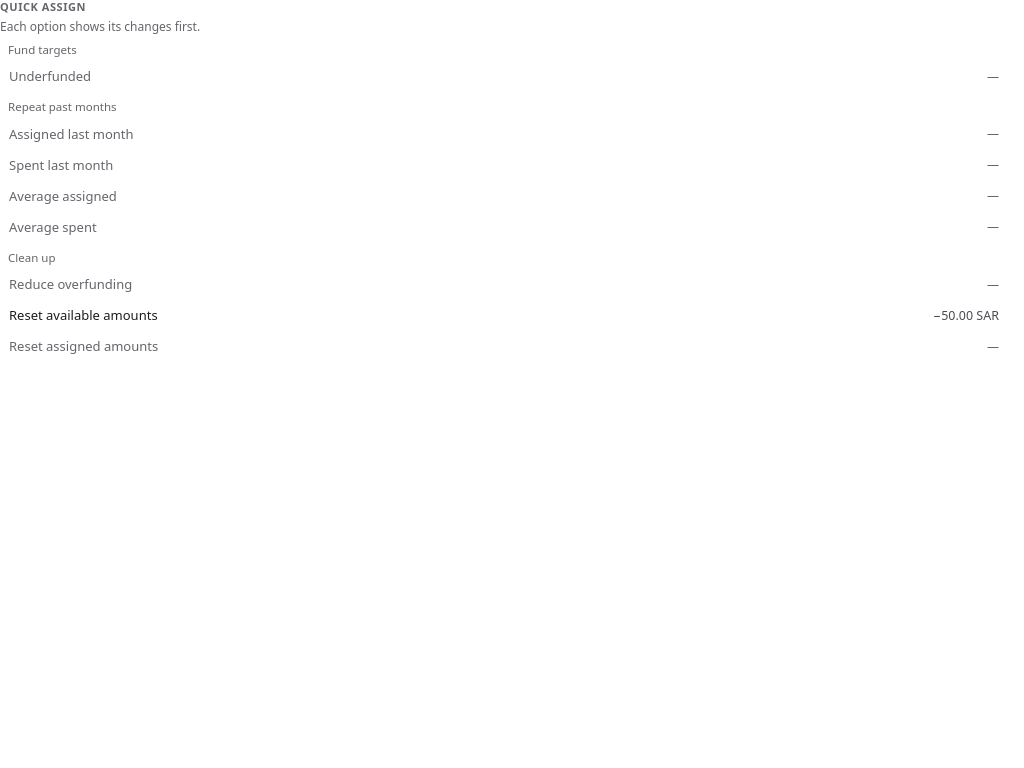
Scenario: uses the resulting native RTA and future shortage when returned funds are still reserved
The image size is (1024, 768).
Expected: the text "−50.00 SAR" is shown, [933,307,999,325]
Step 1. Click the button "Reset available amounts −50.00 SAR" → (83, 315), box [0,301,1023,331]
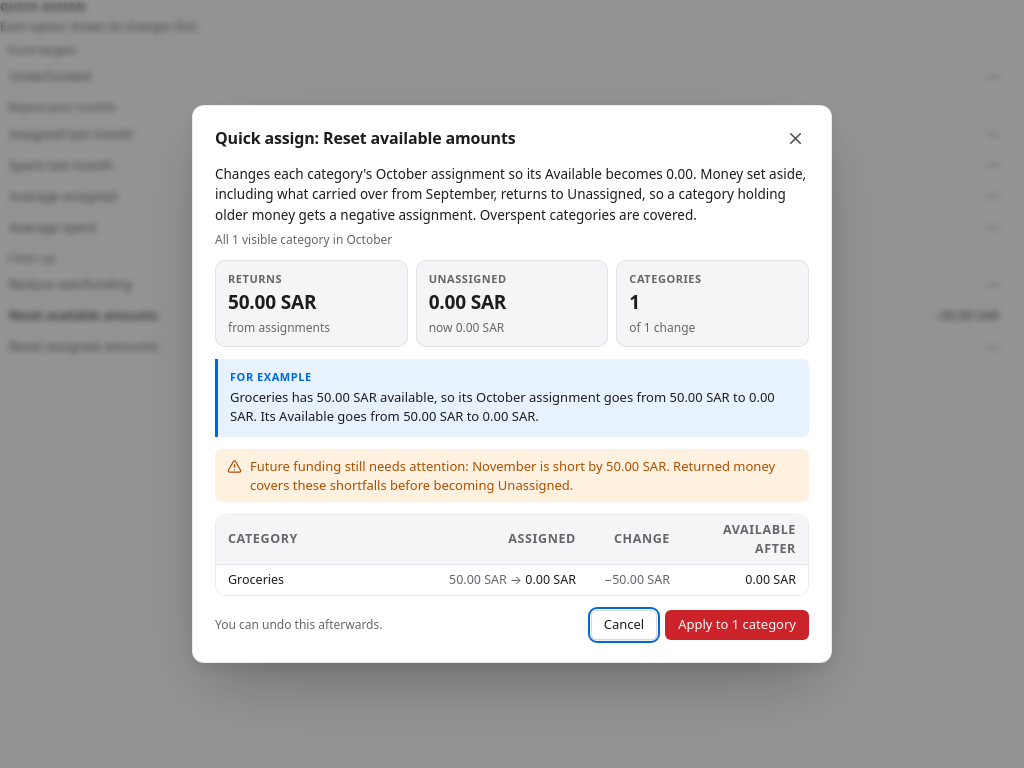
Expected: the button "Apply to 1 category" is shown, [665,610,809,640]
Expected: the text "0.00 SAR" is shown, [429,289,506,315]
Expected: the message shows "November is short by 50.00 SAR", [472,457,666,475]
